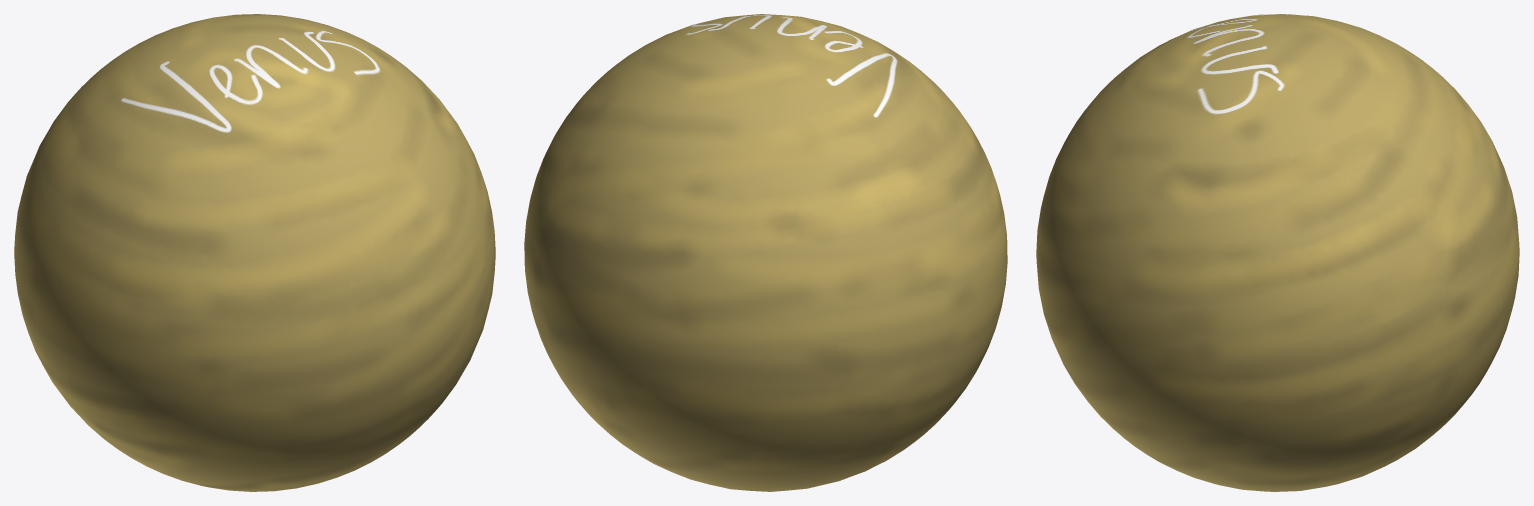
Rendered from venus.gltf.
The picture shows the model from 3 angles, left to right: view 1: azimuth 30°, elevation 25°; view 2: azimuth 150°, elevation 25°; view 3: azimuth 270°, elevation 25°; orthographic projection.
Parts seen in each view (by area): view 1: mesh_id27; view 2: mesh_id27; view 3: mesh_id27.
Part boxes in pixels (x1=…): mesh_id27: x1=14, y1=14, x2=495, y2=491; mesh_id27: x1=524, y1=14, x2=1007, y2=491; mesh_id27: x1=1036, y1=14, x2=1519, y2=491.
Bounding box in the file's own units: 0.6364 × 0.6281 × 0.6358.
Materials: 1 (1 with a texture image).
